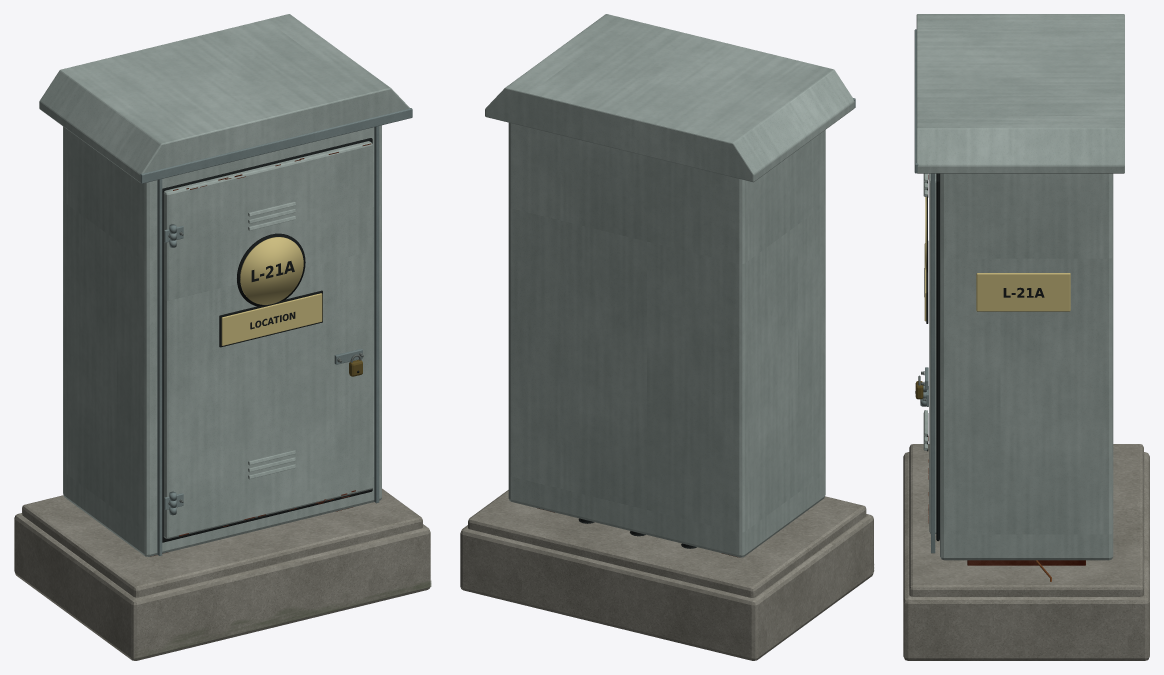
3 views of the same model, side by side, from view 1: azimuth 30°, elevation 25°; view 2: azimuth 150°, elevation 25°; view 3: azimuth 270°, elevation 25° (orthographic). The views are drawn at different scales.
Visible parts, largest first — view 1: TF3_KR_R01; view 2: TF3_KR_R01; view 3: TF3_KR_R01.
Boxes of the visible parts, <box> form: TF3_KR_R01: <box>14,14,431,660</box>; TF3_KR_R01: <box>460,14,874,660</box>; TF3_KR_R01: <box>903,14,1149,660</box>.
Bounding box in the file's own units: 1.16 × 1.88 × 0.811.
10 materials, 5 textured.
